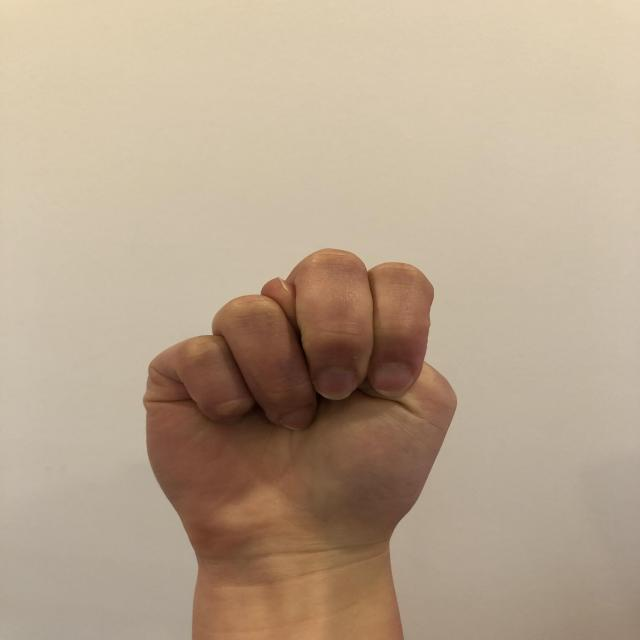N: (120, 238, 493, 574)
